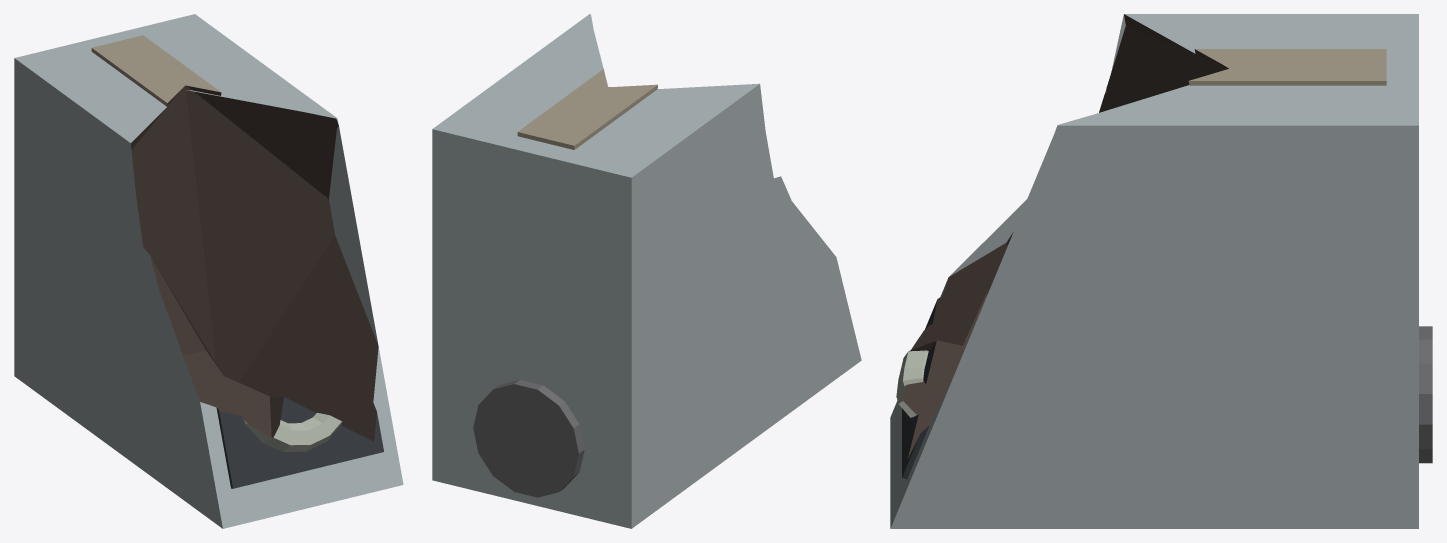
The model's file is vge_d_smallelectricthruster.obj.
The picture shows the model from 3 angles, left to right: view 1: azimuth 30°, elevation 25°; view 2: azimuth 150°, elevation 25°; view 3: azimuth 270°, elevation 25°; orthographic projection. The views are drawn at different scales.
Parts seen in each view (by area): view 1: vge_d_smallelectricthruster; view 2: vge_d_smallelectricthruster; view 3: vge_d_smallelectricthruster.
Part boxes in pixels (x1,y1,x2,y2): vge_d_smallelectricthruster: (14,14,403,528); vge_d_smallelectricthruster: (432,14,861,528); vge_d_smallelectricthruster: (890,14,1432,528).
Bounding box in the file's own units: 0.98 × 1.67 × 2.01.
